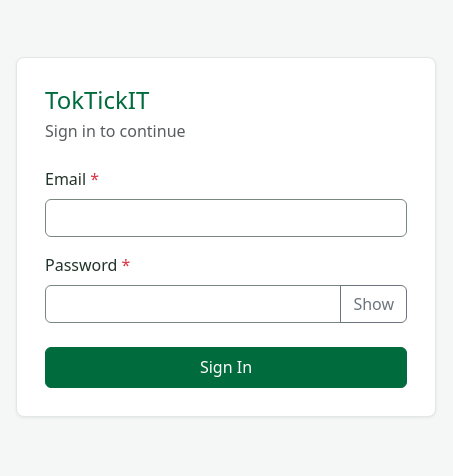
C-01 Login screen › reports a connection problem distinctly from a rejected credential
This screenshot has width=453, height=476.
In the field labelled "Email *": (226, 218) left=45, top=199, right=407, bottom=237, type "someone@example.com"
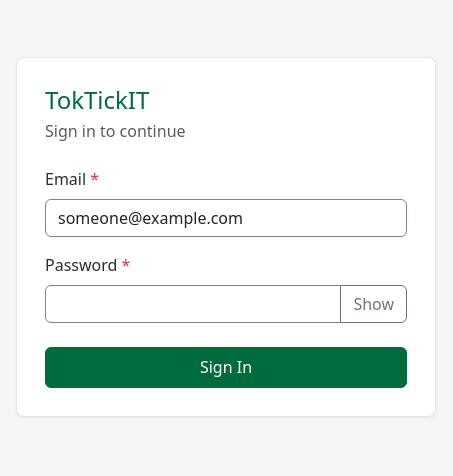
In the password field labelled "Password *": (193, 304) left=45, top=285, right=341, bottom=323, type "Str0ng!Pass"
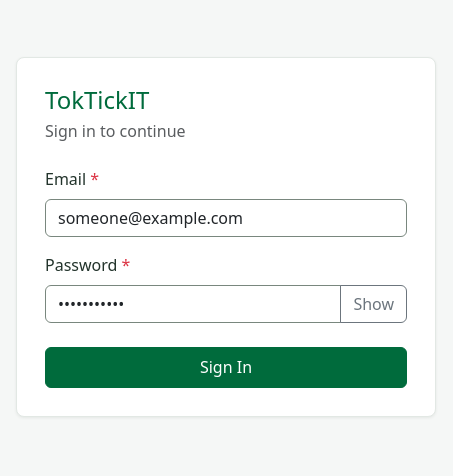
Click the button "Sign In": (226, 367) left=45, top=347, right=407, bottom=388
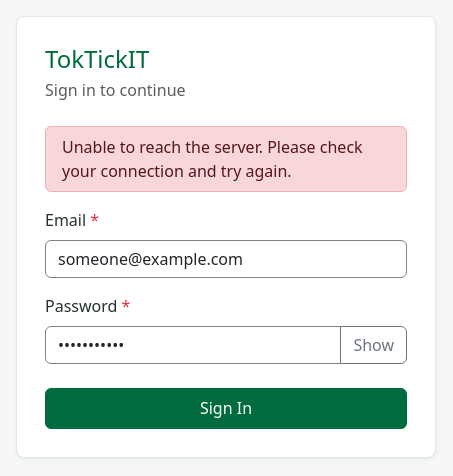
Result: the message with test id "login-error" shows "Unable to reach the server" at left=62, top=136, right=363, bottom=182
